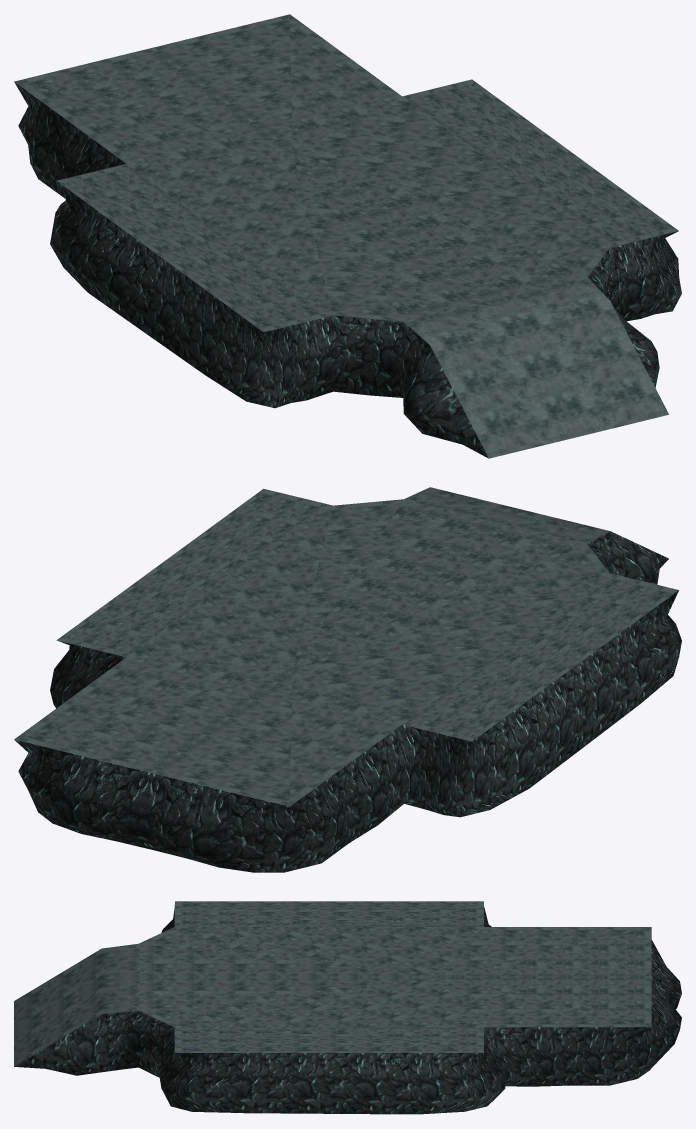
The model's file is land.glb.
The picture shows the model from 3 angles, top to bottom: view 1: azimuth 30°, elevation 25°; view 2: azimuth 150°, elevation 25°; view 3: azimuth 270°, elevation 25°; orthographic projection. The views are drawn at different scales.
Visible parts, largest first — view 1: LAND; view 2: LAND; view 3: LAND.
Part boxes in pixels (bbox=[...]): LAND: bbox=[14, 14, 681, 458]; LAND: bbox=[14, 487, 681, 872]; LAND: bbox=[14, 901, 681, 1114].
Size of the model in its own units: 31.7 by 5.04 by 53.73.
Materials: 2 (2 with a texture image).
